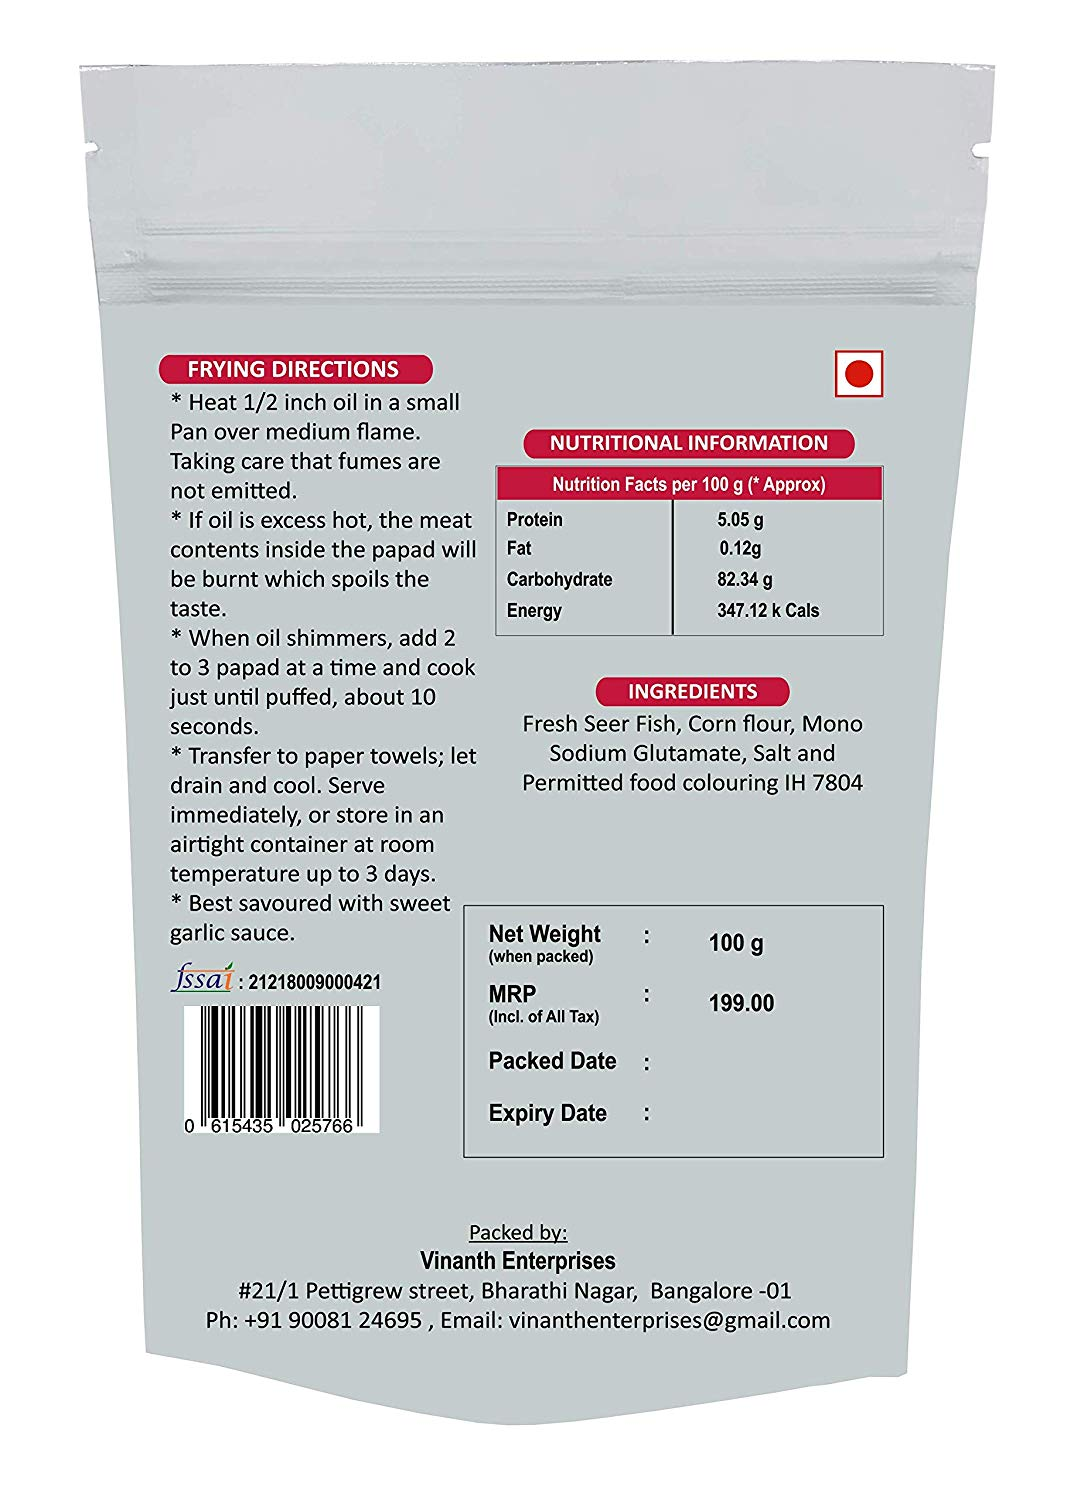nonveg_red: (833, 349, 886, 399)
